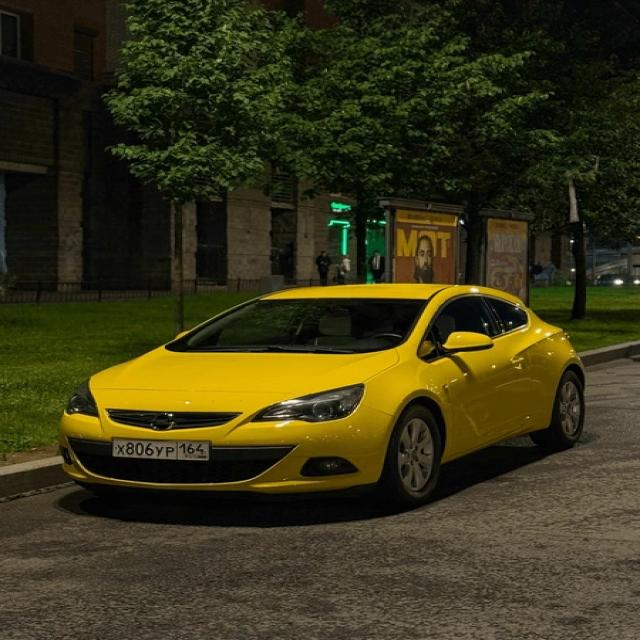opel: (148, 412, 179, 435)
